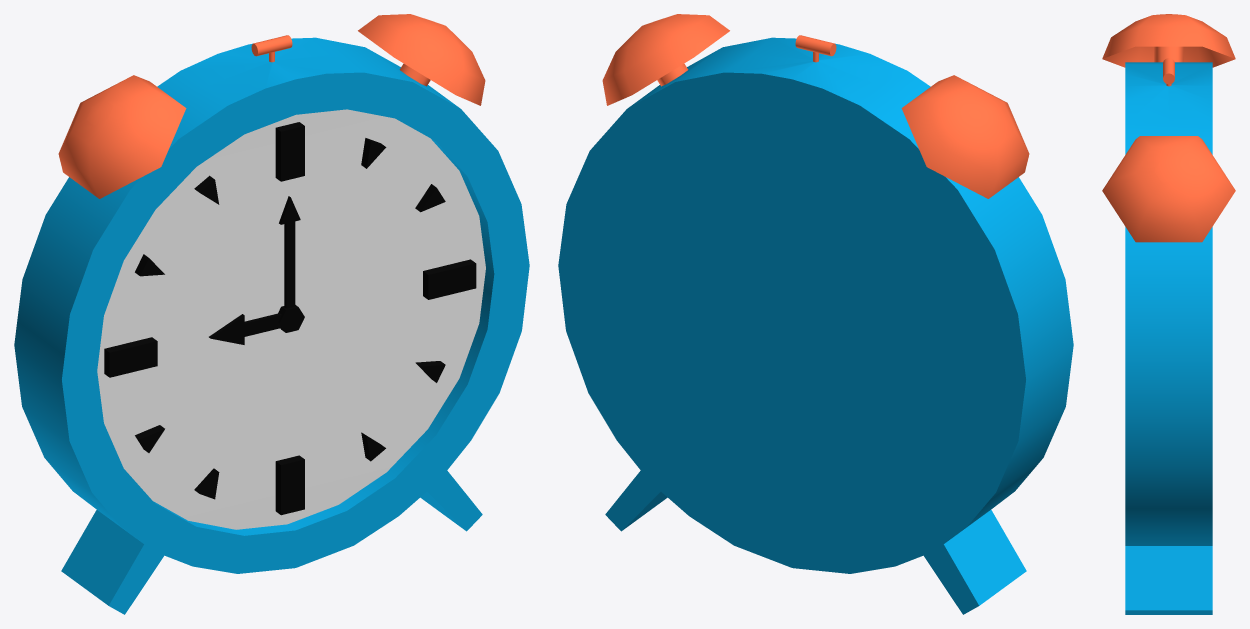
The picture shows the model from 3 angles, left to right: view 1: azimuth 30°, elevation 25°; view 2: azimuth 150°, elevation 25°; view 3: azimuth 270°, elevation 25°; orthographic projection. The views are drawn at different scales.
Visible parts, largest first — view 1: AlarmClock; view 2: AlarmClock; view 3: AlarmClock.
Boxes of the visible parts, left/top/right/bottom form: AlarmClock: left=14, top=14, right=529, bottom=614; AlarmClock: left=558, top=14, right=1073, bottom=614; AlarmClock: left=1102, top=14, right=1235, bottom=614.
Bounding box in the file's own units: 0.231 × 0.2435 × 0.0624.
2 materials, 2 textured.
